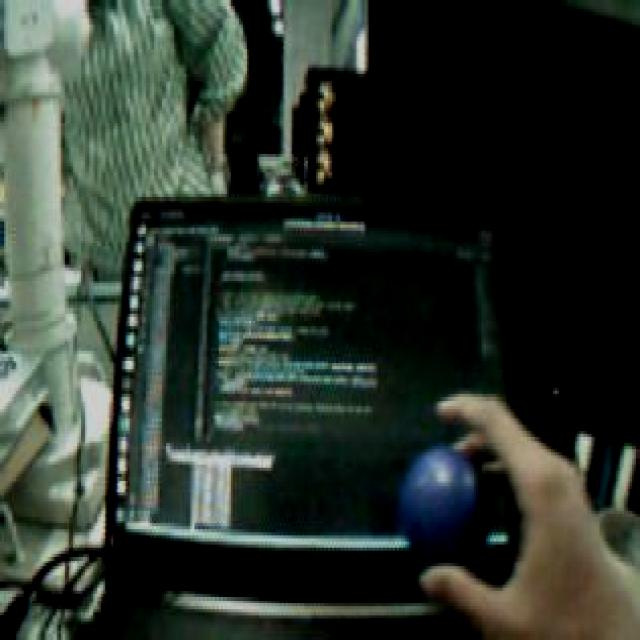BallPurple: (398, 444, 484, 575)
